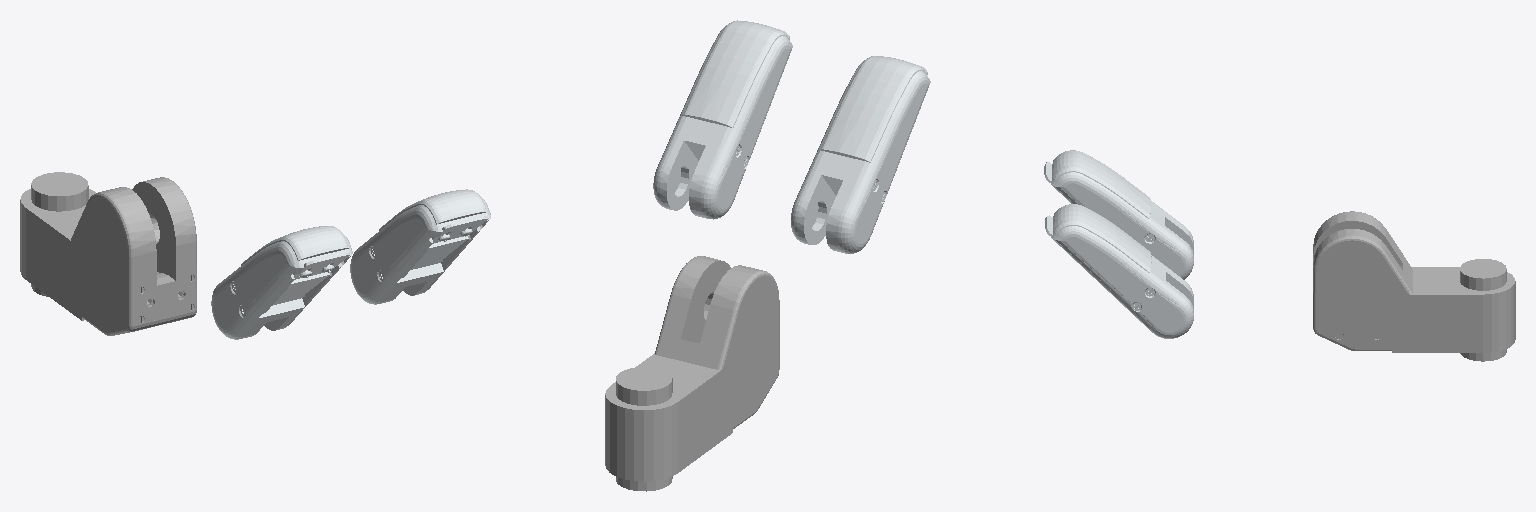
robot.urdf — BHD280_URDF:
<robot
  name="BHD280_URDF">
  <link
    name="hand_base">
    <inertial>
      <origin
        xyz="1.53444878605422E-05 0.00277693660903533 0.0352882290973172"
        rpy="0 0 0" />
      <mass
        value="0.377966381303299" />
      <inertia
        ixx="0.000427326373018601"
        ixy="2.64433379845062E-07"
        ixz="2.02908063714993E-07"
        iyy="0.000361316175967099"
        iyz="3.07926873276032E-05"
        izz="0.000376798128588446" />
    </inertial>
    <visual>
      <origin
        xyz="0 0 0"
        rpy="0 0 0" />
      <geometry>
        <mesh
          filename="package://BHD280_URDF/meshes/hand_base.STL" />
      </geometry>
      <material
        name="">
        <color
          rgba="0.752941176470588 0.752941176470588 0.752941176470588 1" />
      </material>
    </visual>
    <collision>
      <origin
        xyz="0 0 0"
        rpy="0 0 0" />
      <geometry>
        <mesh
          filename="package://BHD280_URDF/meshes/hand_base.STL" />
      </geometry>
    </collision>
    <geom_group name="fine_collision">
      <origin
        rpy="0 0 0"
        xyz="0 0 0"/>
      <geometry>
        <mesh
          filename="package://herb_description/meshes/hand_base.STL"/>
      </geometry>
    </geom_group>
  </link>
  <link
    name="finger0_0">
    <inertial>
      <origin
        xyz="0.0288648917008995 -9.98379746691043E-05 -0.0167746522430198"
        rpy="0 0 0" />
      <mass
        value="56143.0626955765" />
      <inertia
        ixx="10.4484040652085"
        ixy="-0.117861448219889"
        ixz="5.31613760585343"
        iyy="33.9552353012776"
        iyz="-0.0780041192837512"
        izz="29.3669090518615" />
    </inertial>
    <visual>
      <origin
        xyz="0 0 0"
        rpy="0 0 0" />
      <geometry>
        <mesh
          filename="package://BHD280_URDF/meshes/finger0_0.STL" />
      </geometry>
      <material
        name="">
        <color
          rgba="0.752941176470588 0.752941176470588 0.752941176470588 1" />
      </material>
    </visual>
    <collision>
      <origin
        xyz="0 0 0"
        rpy="0 0 0" />
      <geometry>
        <mesh
          filename="package://BHD280_URDF/meshes/finger0_0.STL" />
      </geometry>
    </collision>
    <geom_group name="fine_collision">
      <origin
        rpy="0 0 0"
        xyz="0 0 0"/>
      <geometry>
        <mesh
          filename="package://herb_description/meshes/finger0_0.STL"/>
      </geometry>
    </geom_group>
  </link>
  <joint
    name="j00"
    type="continuous">
    <origin
      xyz="-0.025 0 0.0754000000000003"
      rpy="-9.27906974436996E-30 -2.56739074444568E-16 -1.5707963267949" />
    <parent
      link="hand_base" />
    <child
      link="finger0_0" />
    <axis
      xyz="0 0 -1" />
  </joint>
  <link
    name="finger0_1">
    <inertial>
      <origin
        xyz="0.0309181761355441 0.0019693024932544 5.66301573335821E-05"
        rpy="0 0 0" />
      <mass
        value="31321.1214212939" />
      <inertia
        ixx="2.18512832127284"
        ixy="0.844484268309692"
        ixz="0.0135401272400822"
        iyy="17.3596441998536"
        iyz="0.00112669216751647"
        izz="17.7656644395659" />
    </inertial>
    <visual>
      <origin
        xyz="0 0 0"
        rpy="0 0 0" />
      <geometry>
        <mesh
          filename="package://BHD280_URDF/meshes/finger0_1.STL" />
      </geometry>
      <material
        name="">
        <color
          rgba="0.752941176470588 0.752941176470588 0.752941176470588 1" />
      </material>
    </visual>
    <collision>
      <origin
        xyz="0 0 0"
        rpy="0 0 0" />
      <geometry>
        <mesh
          filename="package://BHD280_URDF/meshes/finger0_1.STL" />
      </geometry>
    </collision>
    <geom_group name="fine_collision">
      <origin
        rpy="0 0 0"
        xyz="0 0 0"/>
      <geometry>
        <mesh
          filename="package://herb_description/meshes/finger0_1.STL"/>
      </geometry>
    </geom_group>
  </link>
  <joint
    name="j01"
    type="continuous">
    <origin
      xyz="0.0500000000000007 0.000799999999999971 0"
      rpy="1.5707963267949 0 0" />
    <parent
      link="finger0_0" />
    <child
      link="finger0_1" />
    <axis
      xyz="0 0 1" />
  </joint>
  <link
    name="finger0_2">
    <inertial>
      <origin
        xyz="0.0253322571839626 0.00167106362872826 0.000102872216676222"
        rpy="0 0 0" />
      <mass
        value="19342.3312257343" />
      <inertia
        ixx="1.30630012195661"
        ixy="0.24449590236399"
        ixz="-0.0476463473584914"
        iyy="6.45563111007667"
        iyz="-0.00299703369479204"
        izz="5.99395386650428" />
    </inertial>
    <visual>
      <origin
        xyz="0 0 0"
        rpy="0 0 0" />
      <geometry>
        <mesh
          filename="package://BHD280_URDF/meshes/finger0_2.STL" />
      </geometry>
      <material
        name="">
        <color
          rgba="0.898039215686275 0.917647058823529 0.929411764705882 1" />
      </material>
    </visual>
    <collision>
      <origin
        xyz="0 0 0"
        rpy="0 0 0" />
      <geometry>
        <mesh
          filename="package://BHD280_URDF/meshes/finger0_2.STL" />
      </geometry>
    </collision>
    <geom_group name="fine_collision">
      <origin
        rpy="0 0 0"
        xyz="0 0 0"/>
      <geometry>
        <mesh
          filename="package://herb_description/meshes/finger0_2.STL"/>
      </geometry>
    </geom_group>
  </link>
  <joint
    name="j02"
    type="continuous">
    <origin
      xyz="0.069935684739622 0.00300000000000003 0.000200000000006934"
      rpy="-3.77533479986348E-14 -4.45260733378639E-14 0.698131700822416" />
    <parent
      link="finger0_1" />
    <child
      link="finger0_2" />
    <axis
      xyz="0 0 1" />
  </joint>
  <link
    name="finger1_0">
    <inertial>
      <origin
        xyz="0.0287663539170761 -9.98379746692049E-05 -0.016943075668142"
        rpy="0 0 0" />
      <mass
        value="56143.0626955765" />
      <inertia
        ixx="10.3869077355928"
        ixy="-0.118315354672022"
        ixz="5.20520111305201"
        iyy="33.9552353012776"
        iyz="-0.0773139085196086"
        izz="29.4284053814771" />
    </inertial>
    <visual>
      <origin
        xyz="0 0 0"
        rpy="0 0 0" />
      <geometry>
        <mesh
          filename="package://BHD280_URDF/meshes/finger1_0.STL" />
      </geometry>
      <material
        name="">
        <color
          rgba="0.752941176470588 0.752941176470588 0.752941176470588 1" />
      </material>
    </visual>
    <collision>
      <origin
        xyz="0 0 0"
        rpy="0 0 0" />
      <geometry>
        <mesh
          filename="package://BHD280_URDF/meshes/finger1_0.STL" />
      </geometry>
    </collision>
    <geom_group name="fine_collision">
      <origin
        rpy="0 0 0"
        xyz="0 0 0"/>
      <geometry>
        <mesh
          filename="package://herb_description/meshes/finger1_0.STL"/>
      </geometry>
    </geom_group>
  </link>
  <joint
    name="j10"
    type="continuous">
    <origin
      xyz="0.025 0 0.0754"
      rpy="-9.2871E-30 -0.0058448 -1.5708" />
    <parent
      link="hand_base" />
    <child
      link="finger1_0" />
    <axis
      xyz="0.0058448 0 0.99998" />
  </joint>
  <link
    name="finger1_1">
    <inertial>
      <origin
        xyz="0.0309181761449676 0.00196930210221455 5.66301859537474E-05"
        rpy="0 0 0" />
      <mass
        value="31321.1215499126" />
      <inertia
        ixx="2.18512832967327"
        ixy="0.844484155951962"
        ixz="0.0135401335439361"
        iyy="17.3596442221312"
        iyz="0.00112673821434557"
        izz="17.7656644132238" />
    </inertial>
    <visual>
      <origin
        xyz="0 0 0"
        rpy="0 0 0" />
      <geometry>
        <mesh
          filename="package://BHD280_URDF/meshes/finger1_1.STL" />
      </geometry>
      <material
        name="">
        <color
          rgba="0.752941176470588 0.752941176470588 0.752941176470588 1" />
      </material>
    </visual>
    <collision>
      <origin
        xyz="0 0 0"
        rpy="0 0 0" />
      <geometry>
        <mesh
          filename="package://BHD280_URDF/meshes/finger1_1.STL" />
      </geometry>
    </collision>
    <geom_group name="fine_collision">
      <origin
        rpy="0 0 0"
        xyz="0 0 0"/>
      <geometry>
        <mesh
          filename="package://herb_description/meshes/finger1_1.STL"/>
      </geometry>
    </geom_group>
  </link>
  <joint
    name="j11"
    type="continuous">
    <origin
      xyz="0.0499991459461259 0.000799999999999367 -0.000292240753933679"
      rpy="1.5707963267949 0 -4.93038065763132E-32" />
    <parent
      link="finger1_0" />
    <child
      link="finger1_1" />
    <axis
      xyz="0 0 1" />
  </joint>
  <link
    name="finger1_2">
    <inertial>
      <origin
        xyz="0.0253322572246781 0.00167106357335603 0.000102872216738804"
        rpy="0 0 0" />
      <mass
        value="19342.3313295693" />
      <inertia
        ixx="1.30630012953801"
        ixy="0.244495900353315"
        ixz="-0.0476463484401422"
        iyy="6.45563113593989"
        iyz="-0.00299704033698853"
        izz="5.99395390717115" />
    </inertial>
    <visual>
      <origin
        xyz="0 0 0"
        rpy="0 0 0" />
      <geometry>
        <mesh
          filename="package://BHD280_URDF/meshes/finger1_2.STL" />
      </geometry>
      <material
        name="">
        <color
          rgba="0.898039215686275 0.917647058823529 0.929411764705882 1" />
      </material>
    </visual>
    <collision>
      <origin
        xyz="0 0 0"
        rpy="0 0 0" />
      <geometry>
        <mesh
          filename="package://BHD280_URDF/meshes/finger1_2.STL" />
      </geometry>
    </collision>
    <geom_group name="fine_collision">
      <origin
        rpy="0 0 0"
        xyz="0 0 0"/>
      <geometry>
        <mesh
          filename="package://herb_description/meshes/finger1_2.STL"/>
      </geometry>
    </geom_group>
  </link>
  <joint
    name="j12"
    type="continuous">
    <origin
      xyz="0.0699356847396015 0.00300000000003377 0.000199999999999378"
      rpy="1.95799899548702E-16 2.29686057908074E-16 0.700079983587682" />
    <parent
      link="finger1_1" />
    <child
      link="finger1_2" />
    <axis
      xyz="0 0 1" />
  </joint>
  <link
    name="finger2_1">
    <inertial>
      <origin
        xyz="0.0309181761355441 0.00196930249325443 5.66301573335821E-05"
        rpy="0 0 0" />
      <mass
        value="31321.1214212939" />
      <inertia
        ixx="2.18512832127284"
        ixy="0.844484268309696"
        ixz="0.0135401272400823"
        iyy="17.3596441998537"
        iyz="0.00112669216751511"
        izz="17.7656644395659" />
    </inertial>
    <visual>
      <origin
        xyz="0 0 0"
        rpy="0 0 0" />
      <geometry>
        <mesh
          filename="package://BHD280_URDF/meshes/finger2_1.STL" />
      </geometry>
      <material
        name="">
        <color
          rgba="0.752941176470588 0.752941176470588 0.752941176470588 1" />
      </material>
    </visual>
    <collision>
      <origin
        xyz="0 0 0"
        rpy="0 0 0" />
      <geometry>
        <mesh
          filename="package://BHD280_URDF/meshes/finger2_1.STL" />
      </geometry>
    </collision>
    <geom_group name="fine_collision">
      <origin
        rpy="0 0 0"
        xyz="0 0 0"/>
      <geometry>
        <mesh
          filename="package://herb_description/meshes/finger2_1.STL"/>
      </geometry>
    </geom_group>
  </link>
  <joint
    name="j21"
    type="continuous">
    <origin
      xyz="-0.000799999999999992 0.05 0.0754000000000003"
      rpy="1.5707963267949 2.77555756156289E-17 1.5707963267949" />
    <parent
      link="hand_base" />
    <child
      link="finger2_1" />
    <axis
      xyz="0 0 1" />
  </joint>
  <link
    name="finger2_2">
    <inertial>
      <origin
        xyz="0.0253322571839626 0.00167106362872825 0.000102872216676229"
        rpy="0 0 0" />
      <mass
        value="19342.3312257343" />
      <inertia
        ixx="1.3063001219566"
        ixy="0.24449590236399"
        ixz="-0.0476463473584917"
        iyy="6.45563111007669"
        iyz="-0.00299703369479224"
        izz="5.99395386650428" />
    </inertial>
    <visual>
      <origin
        xyz="0 0 0"
        rpy="0 0 0" />
      <geometry>
        <mesh
          filename="package://BHD280_URDF/meshes/finger2_2.STL" />
      </geometry>
      <material
        name="">
        <color
          rgba="0.898039215686275 0.917647058823529 0.929411764705882 1" />
      </material>
    </visual>
    <collision>
      <origin
        xyz="0 0 0"
        rpy="0 0 0" />
      <geometry>
        <mesh
          filename="package://BHD280_URDF/meshes/finger2_2.STL" />
      </geometry>
    </collision>
    <geom_group name="fine_collision">
      <origin
        rpy="0 0 0"
        xyz="0 0 0"/>
      <geometry>
        <mesh
          filename="package://herb_description/meshes/finger2_2.STL"/>
      </geometry>
    </geom_group>
  </link>
  <joint
    name="j22"
    type="continuous">
    <origin
      xyz="0.0699356847396236 0.00300000000000011 0.000199999999999993"
      rpy="5.6276902721421E-16 5.75421399737176E-16 0.698131700797743" />
    <parent
      link="finger2_1" />
    <child
      link="finger2_2" />
    <axis
      xyz="0 0 1" />
  </joint>
</robot>

--- Render facts (derived) ---
Views: 3 orthographic renders of the robot side by side, from view 1: azimuth 30°, elevation 25°; view 2: azimuth 150°, elevation 25°; view 3: azimuth 270°, elevation 25°.
Robot: BHD280_URDF — 9 links, 8 joints (8 continuous); root link hand_base; default pose: all joints at 0.
Visible links, largest first — view 1: finger0_0, finger1_2, finger0_2; view 2: finger0_0, finger1_2, finger0_2; view 3: finger0_0, finger1_2, finger0_2.
Boxes of the visible links, bbox=[...] form: finger0_0: bbox=[20, 172, 196, 335]; finger1_2: bbox=[350, 189, 490, 304]; finger0_2: bbox=[211, 226, 352, 339]; finger0_0: bbox=[605, 256, 779, 491]; finger1_2: bbox=[653, 20, 792, 219]; finger0_2: bbox=[791, 56, 930, 253]; finger0_0: bbox=[1313, 211, 1515, 361]; finger1_2: bbox=[1045, 204, 1193, 338]; finger0_2: bbox=[1044, 150, 1193, 279].
Bounding box of the posed robot: 0.0744 × 0.1799 × 0.0829 m (x, y, z).
Meshes: 9 distinct files referenced, 3 mesh visuals loaded (3 binary STL); not drawn: 6 (reference not matched to a file when rendering).